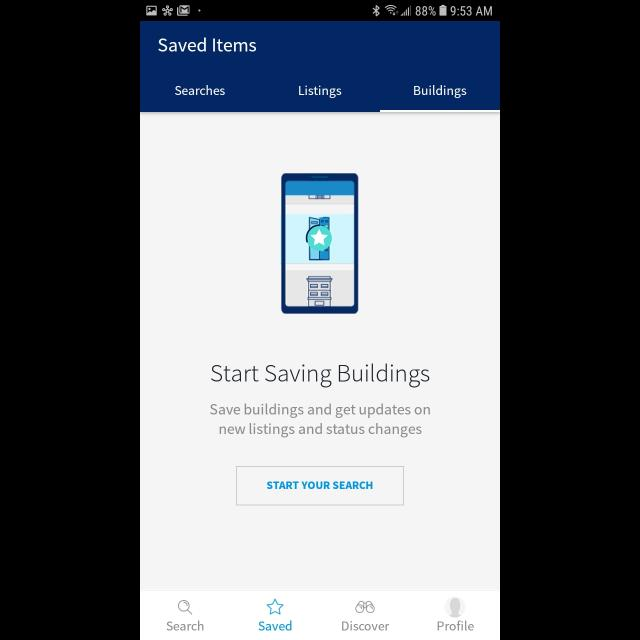icon: (444, 596, 466, 618), (266, 599, 284, 615), (178, 600, 194, 614)
image: (281, 173, 359, 314), (355, 600, 375, 614)
text: (210, 402, 430, 438), (210, 364, 430, 388), (159, 38, 257, 52), (414, 85, 466, 99), (175, 84, 225, 96), (298, 85, 342, 98), (342, 621, 390, 631), (168, 620, 205, 632), (438, 620, 474, 632), (259, 620, 293, 632)
textbutton: (236, 467, 404, 505)
uppertaskbar: (140, 1, 500, 22)
